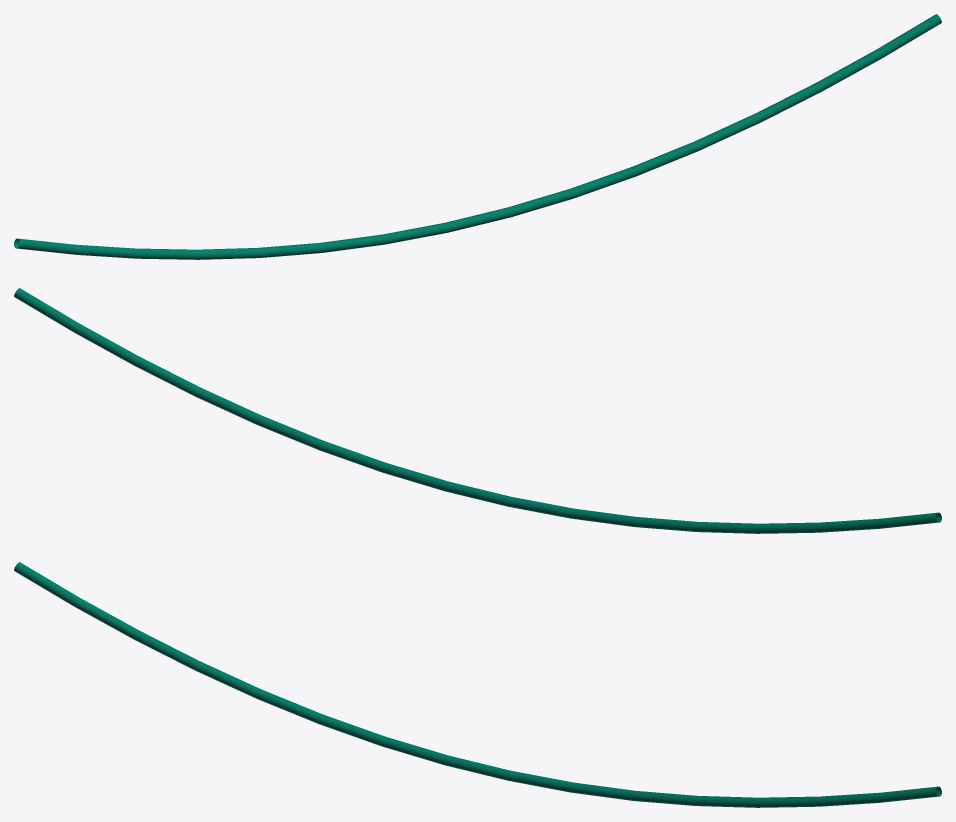
File: SM_Cable_01.fbx
3 views of the same model, one above another, from view 1: azimuth 30°, elevation 25°; view 2: azimuth 150°, elevation 25°; view 3: azimuth 330°, elevation 25° (orthographic).
Parts seen in each view (by area): view 1: SM_Cable_01; view 2: SM_Cable_01; view 3: SM_Cable_01.
Boxes of the visible parts, box(x1,y1,x2,y2) form: SM_Cable_01: box(14, 14, 941, 259); SM_Cable_01: box(14, 288, 941, 533); SM_Cable_01: box(14, 562, 941, 807).
Size of the model in its own units: 5.94 by 0.6033 by 0.0557.
